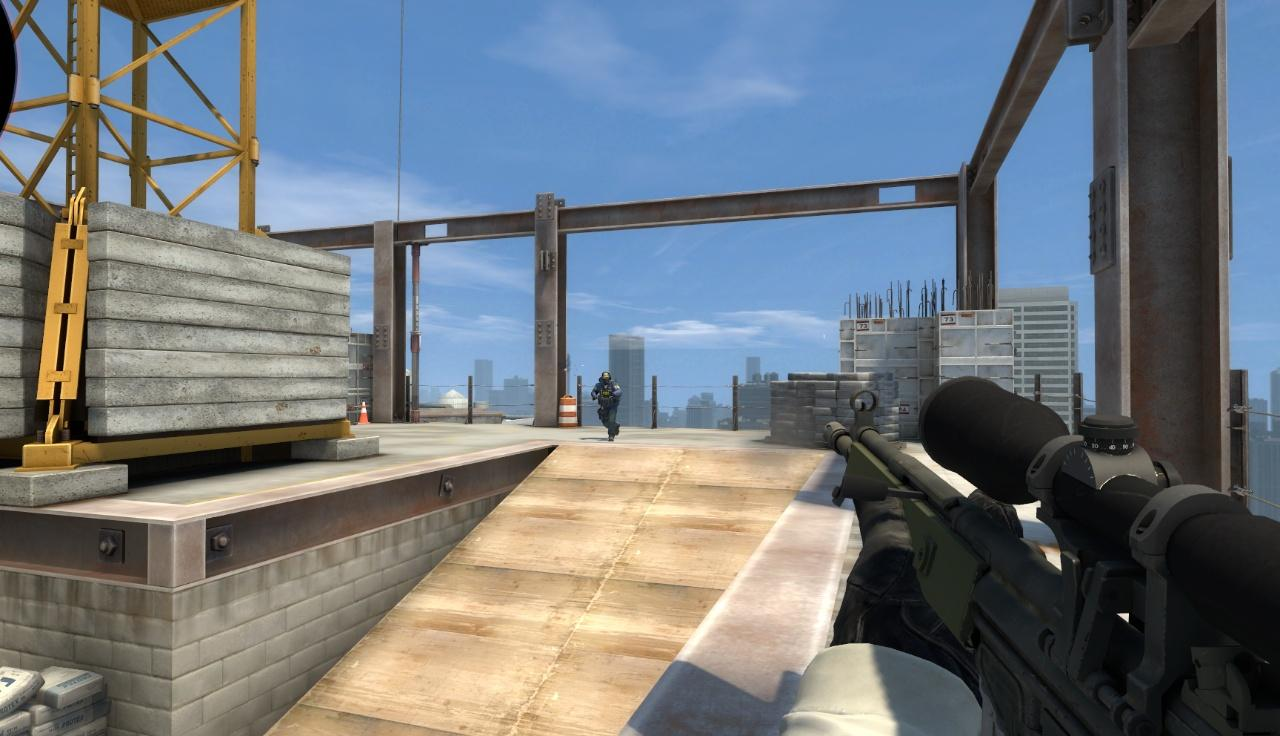ct: (591, 371, 621, 441)
cthead: (601, 371, 611, 383)
sniper: (818, 374, 1280, 735)
